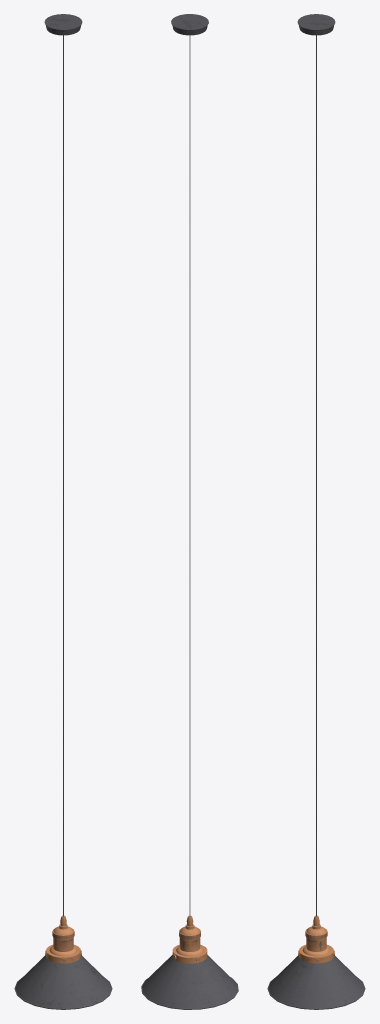
The model's file is lamp.glb.
3 renders of one model, left to right at view 1: azimuth 90°, elevation 25°; view 2: azimuth 210°, elevation 25°; view 3: azimuth 270°, elevation 25°, orthographic.
Parts seen in each view (by area): view 1: Object_4; view 2: Object_4; view 3: Object_4.
Boxes of the visible parts, <box> form: Object_4: <box>14,14,112,1009</box>; Object_4: <box>141,14,238,1009</box>; Object_4: <box>267,14,365,1009</box>.
Bounding box in the file's own units: 0.6662 × 7.3 × 0.6662.
Materials: 1 (1 with a texture image).
